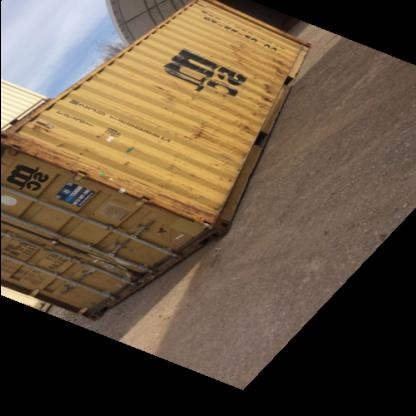Damage: (136, 180, 218, 238), (10, 122, 76, 180), (254, 45, 276, 110), (186, 112, 208, 147), (226, 116, 252, 144), (4, 237, 26, 266), (223, 36, 242, 66), (150, 80, 172, 104), (112, 158, 130, 170)
